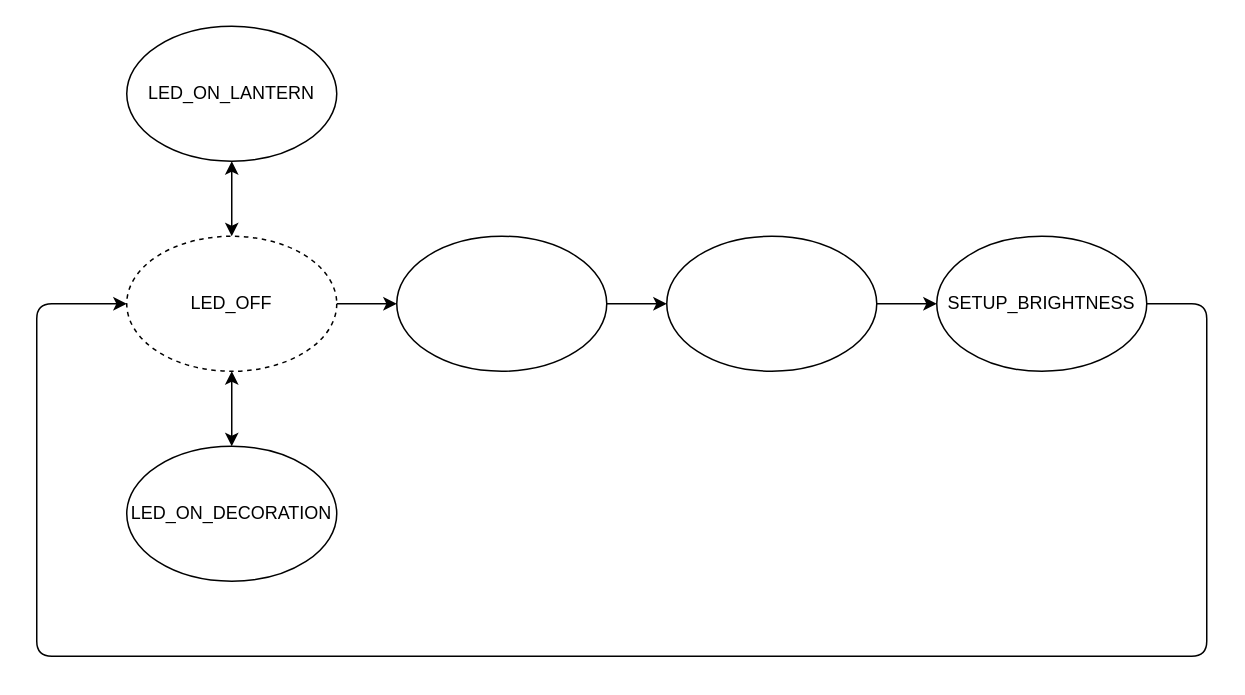
Image size: 1245x695. Some labels were removed from this diagram. The centre of each missing label's shape, as x and y in pixels:
SETUP_COLOR: the point at 771,303
SETUP_DELAY: the point at 501,303
